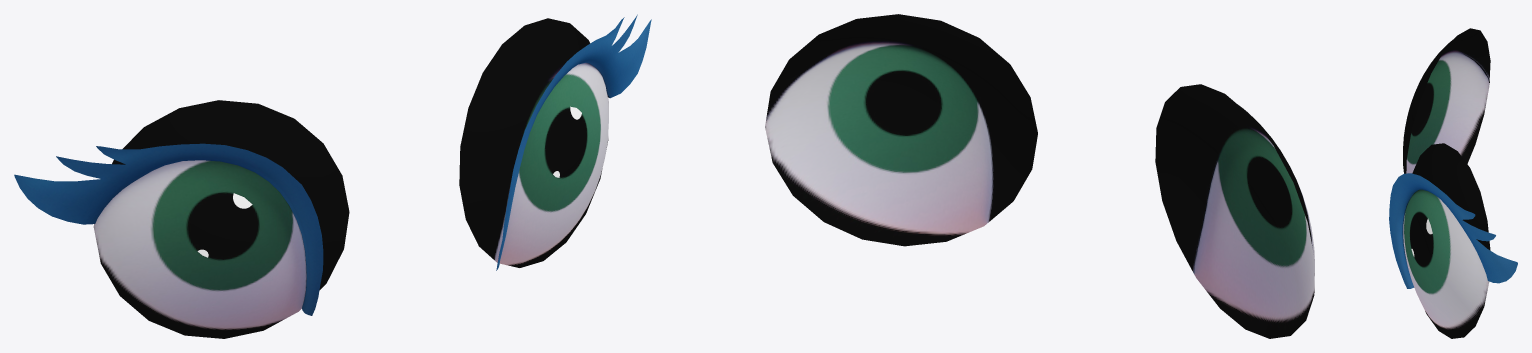
File: cat3.glb
3 renders of one model, left to right at view 1: azimuth 30°, elevation 25°; view 2: azimuth 150°, elevation 25°; view 3: azimuth 270°, elevation 25°, orthographic. The views are drawn at different scales.
Visible parts, largest first — view 1: cat4; view 2: cat4; view 3: cat4.
Boxes of the visible parts, x1,y1,x2,y2 form: cat4: [14, 14, 651, 338]; cat4: [765, 14, 1314, 338]; cat4: [1389, 28, 1517, 338].
Size of the model in its own units: 1.56 by 0.5342 by 0.352.
Materials: 1 (1 with a texture image).
